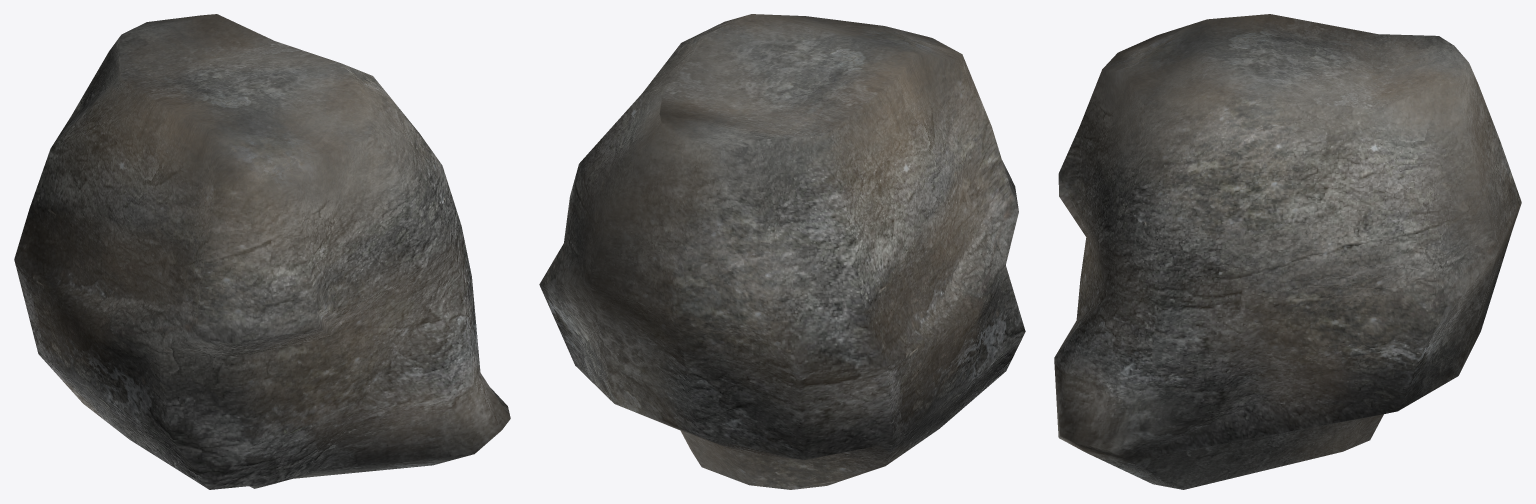
Rendered from Large Rock 2.FBX.
3 renders of one model, left to right at view 1: azimuth 30°, elevation 25°; view 2: azimuth 150°, elevation 25°; view 3: azimuth 270°, elevation 25°, orthographic. The views are drawn at different scales.
Visible parts, largest first — view 1: Rock 2; view 2: Rock 2; view 3: Rock 2.
Boxes of the visible parts, x1,y1,x2,y2 form: Rock 2: [14, 14, 510, 489]; Rock 2: [539, 14, 1025, 489]; Rock 2: [1054, 14, 1521, 489].
Size of the model in its own units: 19.03 by 22.63 by 19.31.
